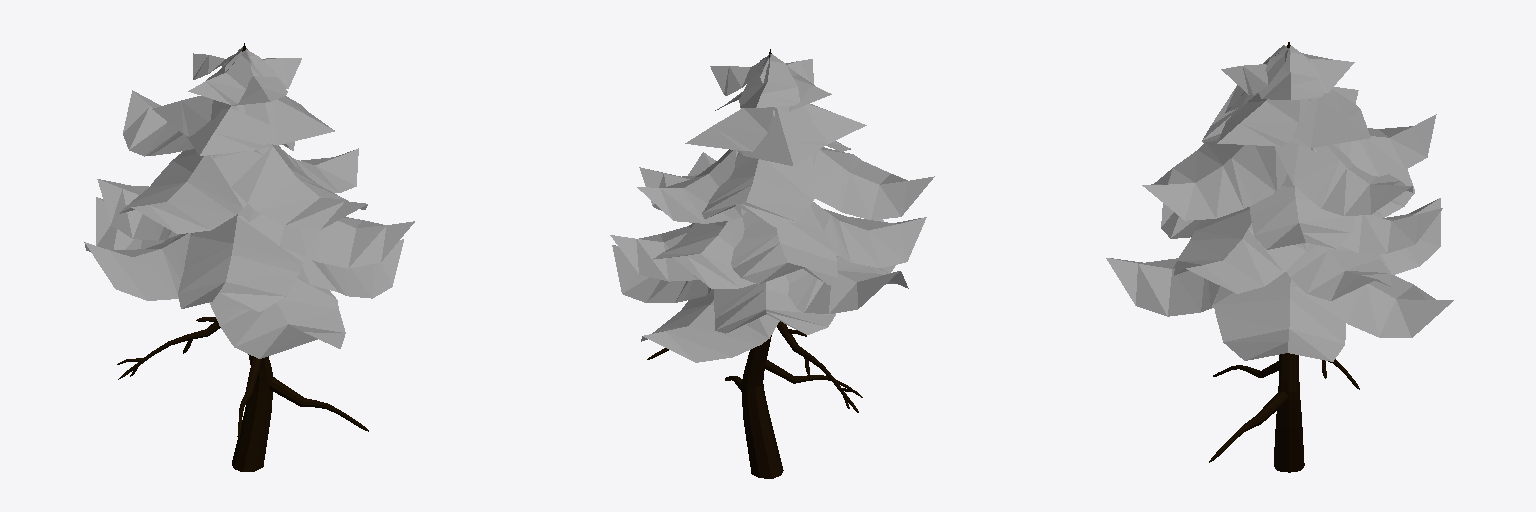
The model's file is PineTree_3.obj.
3 renders of one model, left to right at view 1: azimuth 30°, elevation 25°; view 2: azimuth 150°, elevation 25°; view 3: azimuth 270°, elevation 25°, orthographic.
Visible parts, largest first — view 1: PineTree_3_Cube.008; view 2: PineTree_3_Cube.008; view 3: PineTree_3_Cube.008.
Part boxes in pixels (bbox=[...]): PineTree_3_Cube.008: bbox=[84, 43, 414, 471]; PineTree_3_Cube.008: bbox=[610, 49, 934, 478]; PineTree_3_Cube.008: bbox=[1106, 42, 1453, 472].
Bounding box in the file's own units: 1.76 × 2.35 × 1.75.